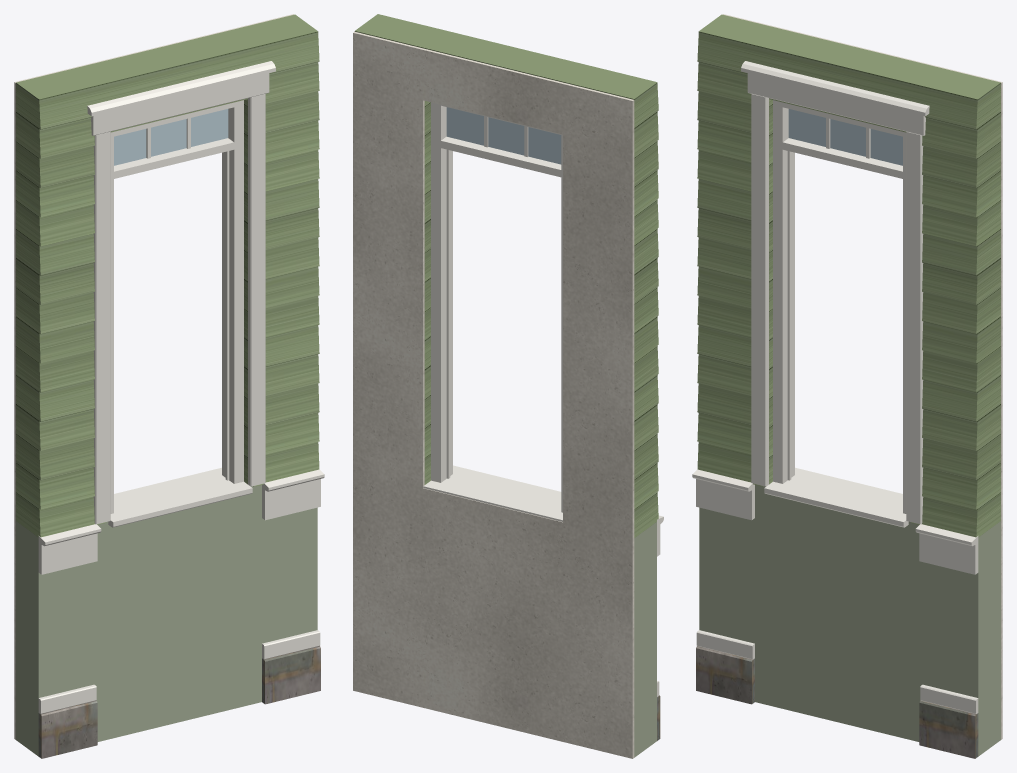
The model's file is b_g_door_b.glb.
The picture shows the model from 3 angles, left to right: view 1: azimuth 30°, elevation 25°; view 2: azimuth 150°, elevation 25°; view 3: azimuth 330°, elevation 25°; orthographic projection.
Parts seen in each view (by area): view 1: b_g_door_b_siding_b, b_g_door_b_acc_b, b_g_door_b_trim, b_g_door_b_frame, b_g_door_b_plinth, b_g_door_b_glass, b_g_door_b_plaster; view 2: b_g_door_b_plaster, b_g_door_b_siding_b, b_g_door_b_frame, b_g_door_b_acc_b, b_g_door_b_trim, b_g_door_b_glass; view 3: b_g_door_b_siding_b, b_g_door_b_acc_b, b_g_door_b_trim, b_g_door_b_frame, b_g_door_b_plinth, b_g_door_b_glass, b_g_door_b_plaster.
Boxes of the visible parts, x1,y1,x2,y2 form: b_g_door_b_siding_b: [16, 14, 319, 537]; b_g_door_b_acc_b: [16, 485, 317, 756]; b_g_door_b_trim: [38, 61, 324, 713]; b_g_door_b_frame: [110, 100, 243, 513]; b_g_door_b_plinth: [38, 646, 320, 758]; b_g_door_b_glass: [114, 109, 228, 165]; b_g_door_b_plaster: [14, 14, 293, 739]; b_g_door_b_plaster: [353, 31, 634, 758]; b_g_door_b_siding_b: [354, 14, 658, 537]; b_g_door_b_frame: [431, 102, 562, 512]; b_g_door_b_acc_b: [634, 522, 656, 757]; b_g_door_b_trim: [423, 465, 663, 696]; b_g_door_b_glass: [446, 107, 561, 164]; b_g_door_b_siding_b: [697, 14, 1000, 537]; b_g_door_b_acc_b: [699, 485, 1000, 756]; b_g_door_b_trim: [692, 61, 978, 713]; b_g_door_b_frame: [773, 100, 906, 513]; b_g_door_b_plinth: [696, 646, 978, 758]; b_g_door_b_glass: [788, 109, 902, 165]; b_g_door_b_plaster: [723, 14, 1002, 739].
Size of the model in its own units: 2 by 4.5 by 0.385.
Materials: 7 (3 with a texture image).
